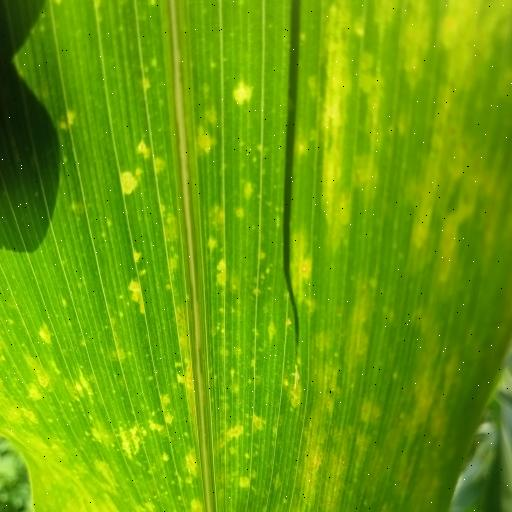Corn_Brown_Spots: (9, 0, 512, 512)
